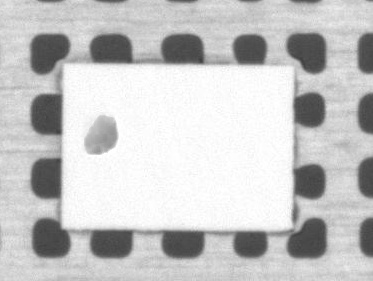DIE_INK: (101, 81, 167, 121)
